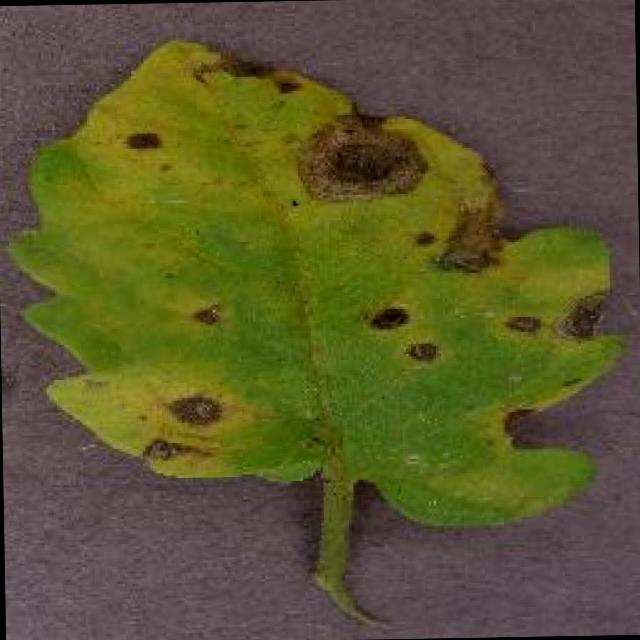leaf_blight: (11, 42, 621, 622)
